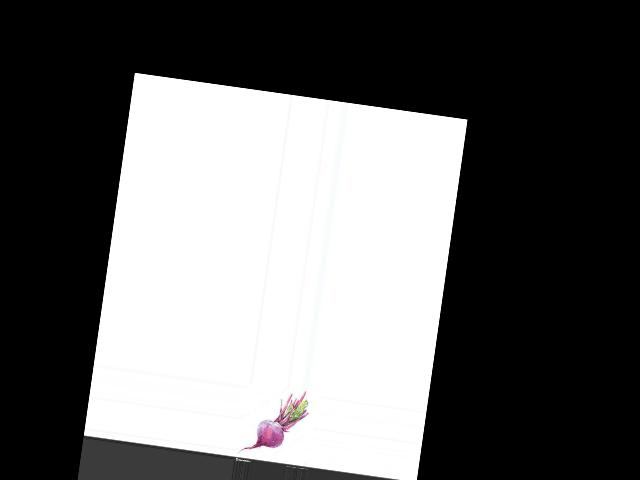beet: (238, 382, 311, 462)
